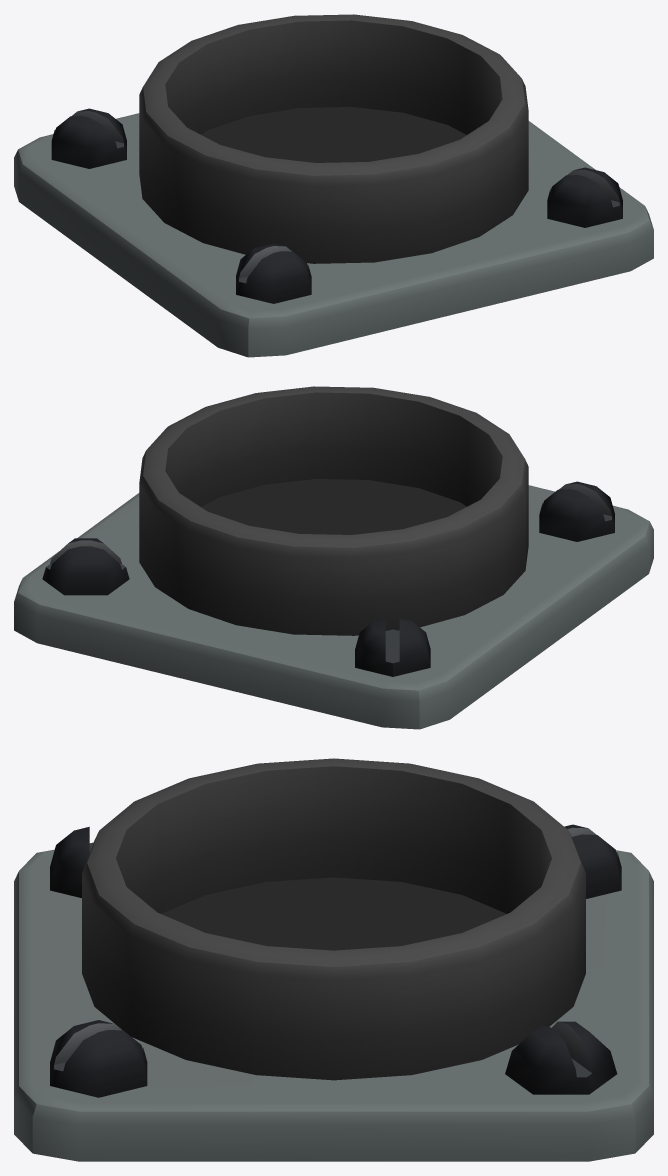
Rendered from serratura_base.fbx.
The picture shows the model from 3 angles, top to bottom: view 1: azimuth 30°, elevation 25°; view 2: azimuth 150°, elevation 25°; view 3: azimuth 270°, elevation 25°; orthographic projection. The views are drawn at different scales.
Visible parts, largest first — view 1: serratura_base; view 2: serratura_base; view 3: serratura_base.
Part boxes in pixels (x1,y1,x2,y2): serratura_base: [14, 14, 653, 357]; serratura_base: [14, 386, 653, 729]; serratura_base: [14, 758, 653, 1161].
Bounding box in the file's own units: 3.88 × 1.12 × 3.88.
